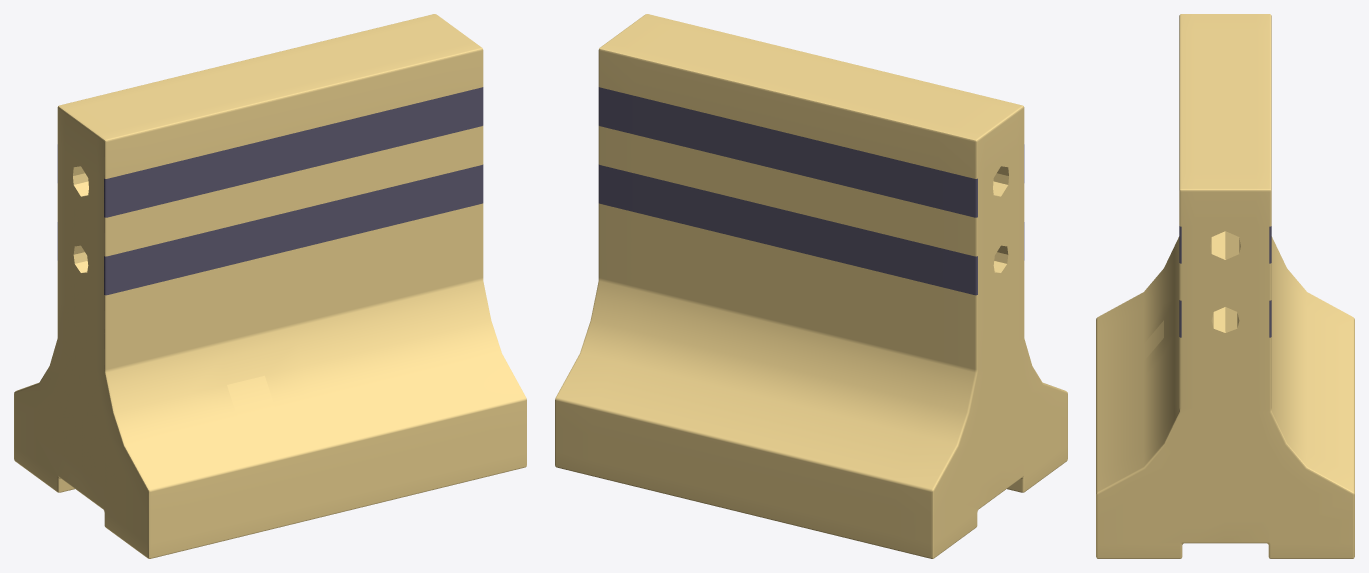
File: yellow_base_grey_line.fbx
The picture shows the model from 3 angles, left to right: view 1: azimuth 30°, elevation 25°; view 2: azimuth 150°, elevation 25°; view 3: azimuth 270°, elevation 25°; orthographic projection. The views are drawn at different scales.
Parts seen in each view (by area): view 1: pCube1; view 2: pCube1; view 3: pCube1.
Boxes of the visible parts, x1,y1,x2,y2 form: pCube1: (14,14,526,558); pCube1: (555,14,1067,558); pCube1: (1096,14,1354,558).
Bounding box in the file's own units: 6.05 × 5.91 × 3.75.
